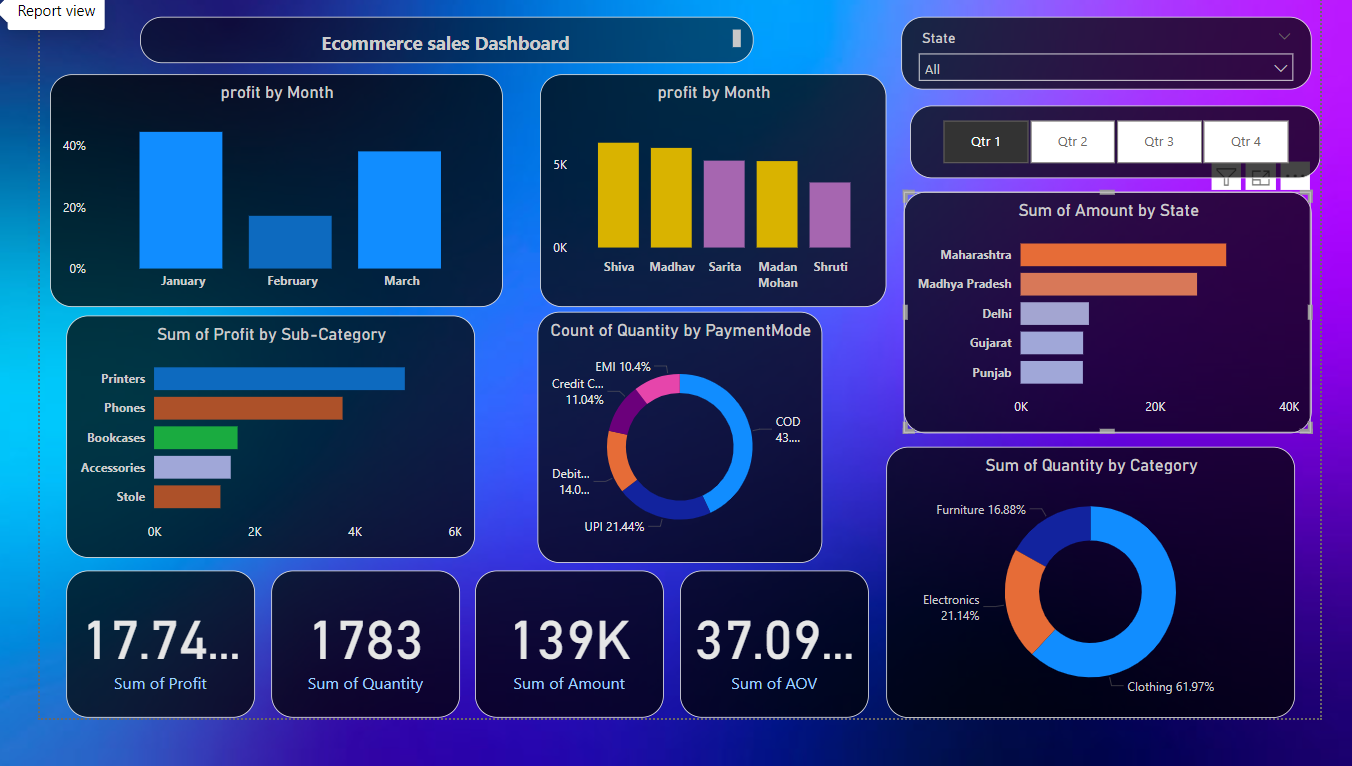

What the dashboard file says about the page in this screenshot:
{"tool":"powerbi","page":{"name":"Page 1","canvas":[1280,720],"ordinal":0},"visuals":[{"type":"columnChart","title":"profit by Month","fields":{"Y":["CountNonNull(Details.Profit)"],"Category":["Orders (2).Order Date.Variation.Date Hierarchy.Month"]},"box":[10,76.2,452.5,232.5],"z":1000},{"type":"barChart","fields":{"Category":["Details.Sub-Category"],"Y":["Sum(Details.Profit)"]},"box":[26.2,317.5,408.8,242.5],"z":2000},{"type":"donutChart","fields":{"Category":["Details.Category"],"Y":["Sum(Details.Quantity)"]},"box":[846.2,448.8,408.8,271.2],"z":3000},{"type":"donutChart","fields":{"Category":["Details.PaymentMode"],"Y":["CountNonNull(Details.Quantity)"]},"box":[497.5,313.8,285,251.2],"z":4000},{"type":"card","fields":{"Values":["Sum(Details.Amount)"]},"box":[435,572.5,188.8,147.5],"z":5000},{"type":"card","fields":{"Values":["Sum(Details.Profit)"]},"box":[26.2,572.5,188.8,147.5],"z":6000},{"type":"card","fields":{"Values":["Sum(Details.Quantity)"]},"box":[231.2,572.5,188.8,147.5],"z":7000},{"type":"card","fields":{"Values":["Sum(Details.AOV)"]},"box":[640,572.5,188.8,147.5],"z":8000},{"type":"barChart","fields":{"Category":["Orders (2).State"],"Y":["Sum(Details.Amount)"]},"box":[862.5,192.5,408.8,242.5],"z":9000},{"type":"columnChart","title":"profit by Month","fields":{"Y":["Sum(Details.Amount)"],"Category":["Orders (2).CustomerName"]},"box":[500,76.2,346.2,232.5],"z":10000},{"type":"slicer","fields":{"Values":["Orders (2).Order Date.Variation.Date Hierarchy.Quarter"]},"box":[870,107.5,410,72.5],"z":11000},{"type":"slicer","fields":{"Values":["Orders (2).State"]},"box":[861.2,18.8,410,72.5],"z":12000},{"type":"textbox","box":[100,18.6,614,46.5],"z":12001}]}

Visuals, with their boxes in screenshot pixels (x1, y1, x2, y2):
"profit by Month" columnChart: l=45, t=70, r=500, b=303
barChart - Details.Sub-Category x Sum(Details.Profit): l=62, t=312, r=472, b=556
donutChart - Details.Category x Sum(Details.Quantity): l=885, t=444, r=1296, b=716
donutChart - Details.PaymentMode x CountNonNull(Details.Quantity): l=535, t=308, r=821, b=561
card - Sum(Details.Amount): l=472, t=568, r=662, b=716
card - Sum(Details.Profit): l=62, t=568, r=251, b=716
card - Sum(Details.Quantity): l=268, t=568, r=457, b=716
card - Sum(Details.AOV): l=678, t=568, r=868, b=716
barChart - Orders (2).State x Sum(Details.Amount): l=902, t=186, r=1313, b=430
"profit by Month" columnChart: l=538, t=70, r=885, b=303
slicer - Orders (2).Order Date.Variation.Date Hierarchy.Quarter: l=909, t=101, r=1321, b=174
slicer - Orders (2).State: l=900, t=12, r=1312, b=85
textbox: l=136, t=12, r=753, b=58
